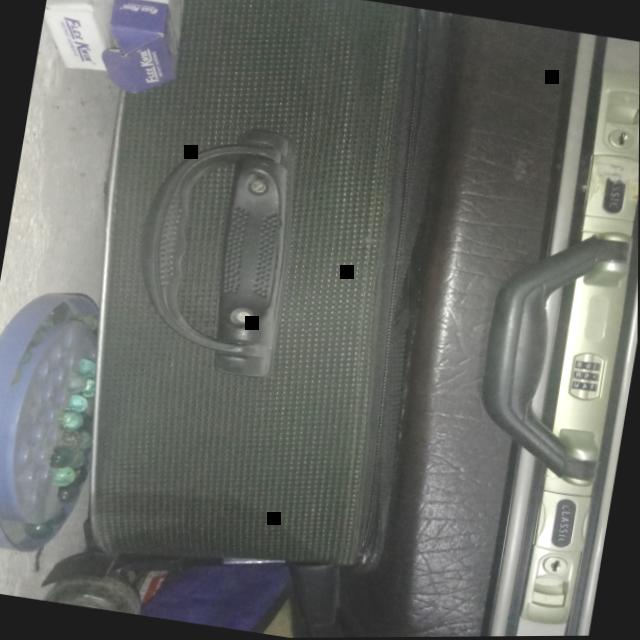luggage: (44, 0, 486, 603), (282, 2, 640, 638)
